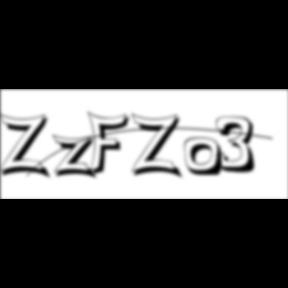3: (216, 116, 262, 176)
F: (87, 110, 135, 178)
Z: (131, 112, 186, 181), (0, 112, 54, 181)
o: (184, 137, 226, 179)
z: (52, 134, 102, 182)
